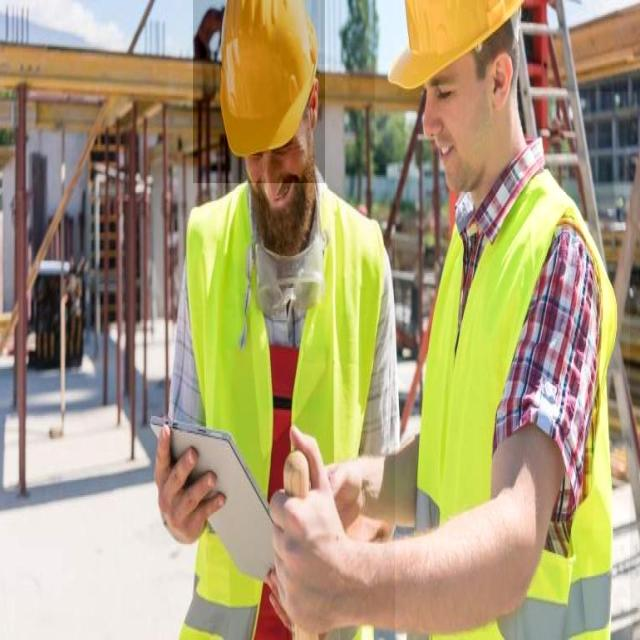Helmet: (395, 91, 630, 640), (375, 0, 533, 164), (193, 0, 325, 183)
